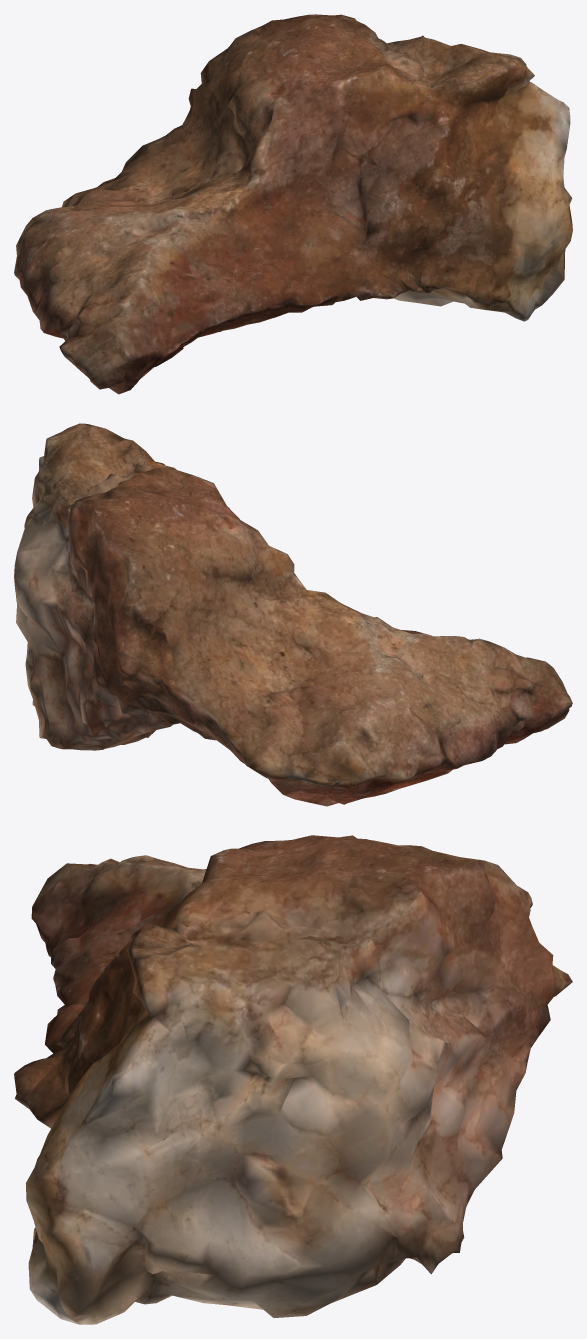
File: stone_01.glb
3 renders of one model, top to bottom at view 1: azimuth 30°, elevation 25°; view 2: azimuth 150°, elevation 25°; view 3: azimuth 270°, elevation 25°, orthographic. The views are drawn at different scales.
Parts seen in each view (by area): view 1: stone_01; view 2: stone_01; view 3: stone_01.
Part boxes in pixels (x1,y1,x2,y2): stone_01: (14,14,572,394); stone_01: (14,423,572,806); stone_01: (14,835,572,1324).
Bounding box in the file's own units: 0.1469 × 0.0714 × 0.089.
Materials: 1 (1 with a texture image).
